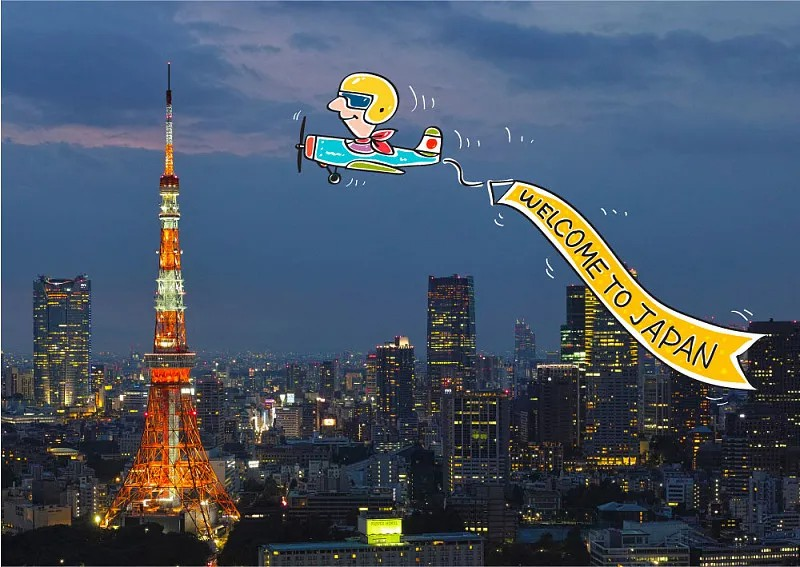Tokyo: (99, 56, 240, 549)
